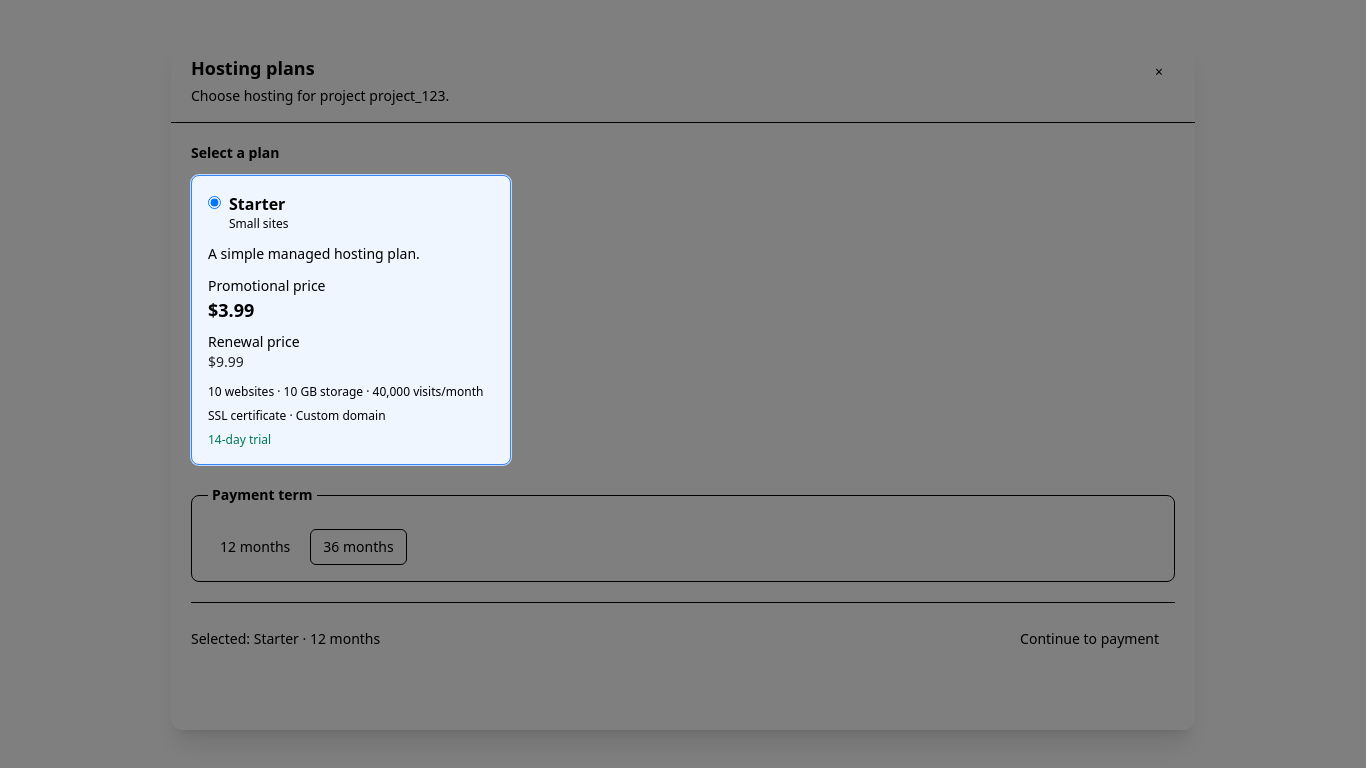
Test: PlanSelector › only reports completion when the server returns completed
Click the button "Continue to payment" at (1090, 639), box top-left (1004, 619), bottom-right (1175, 659)
(page scrolled)
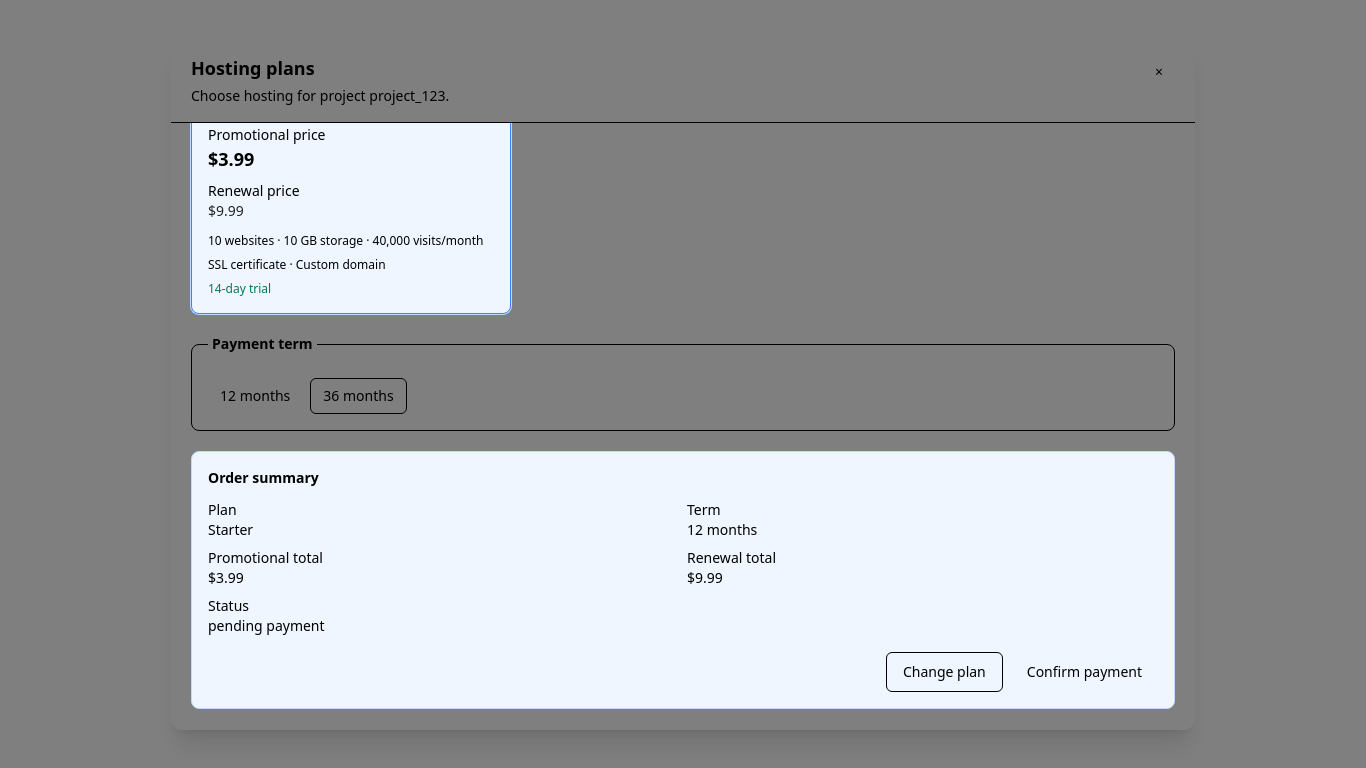
Click the button "Confirm payment" at (1084, 672), box top-left (1011, 652), bottom-right (1158, 692)
(page scrolled)
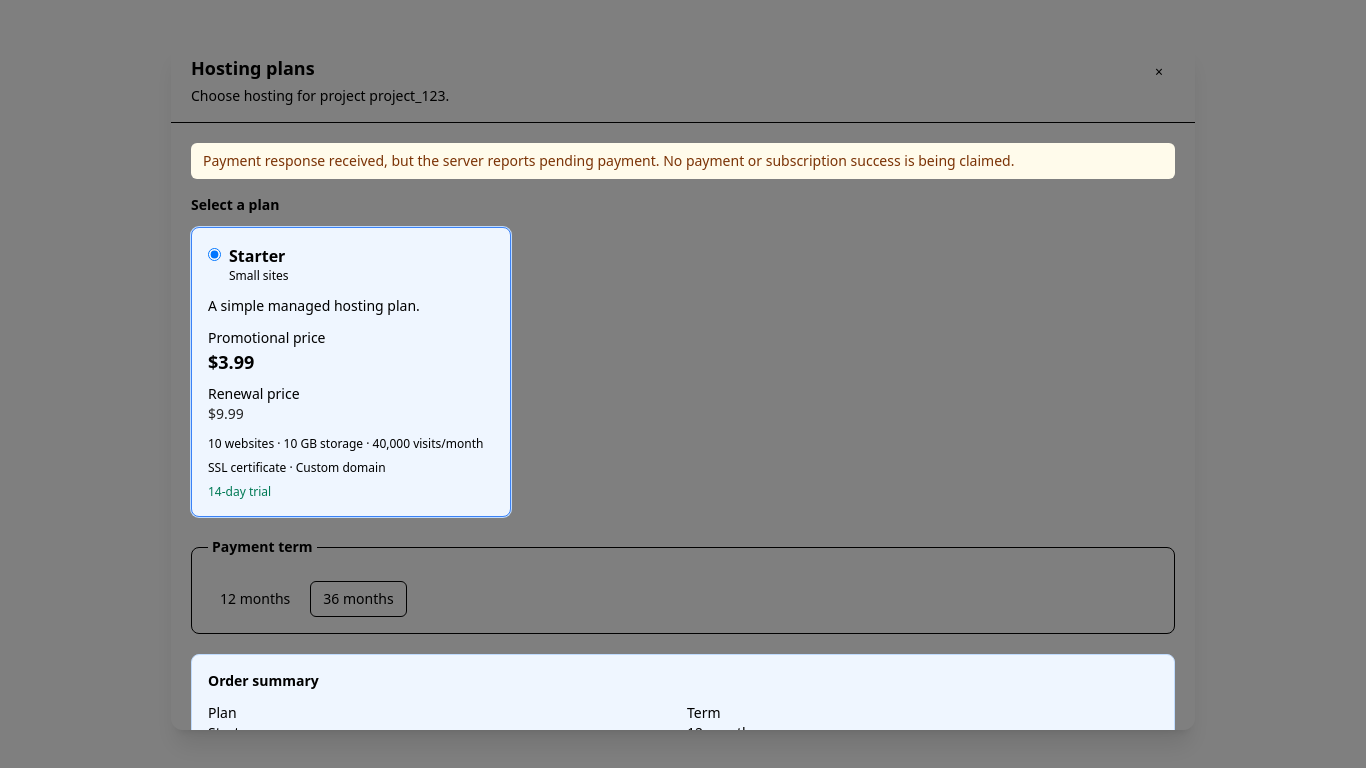
Now the message shows "pending payment", box top-left (203, 151), bottom-right (1014, 170)
